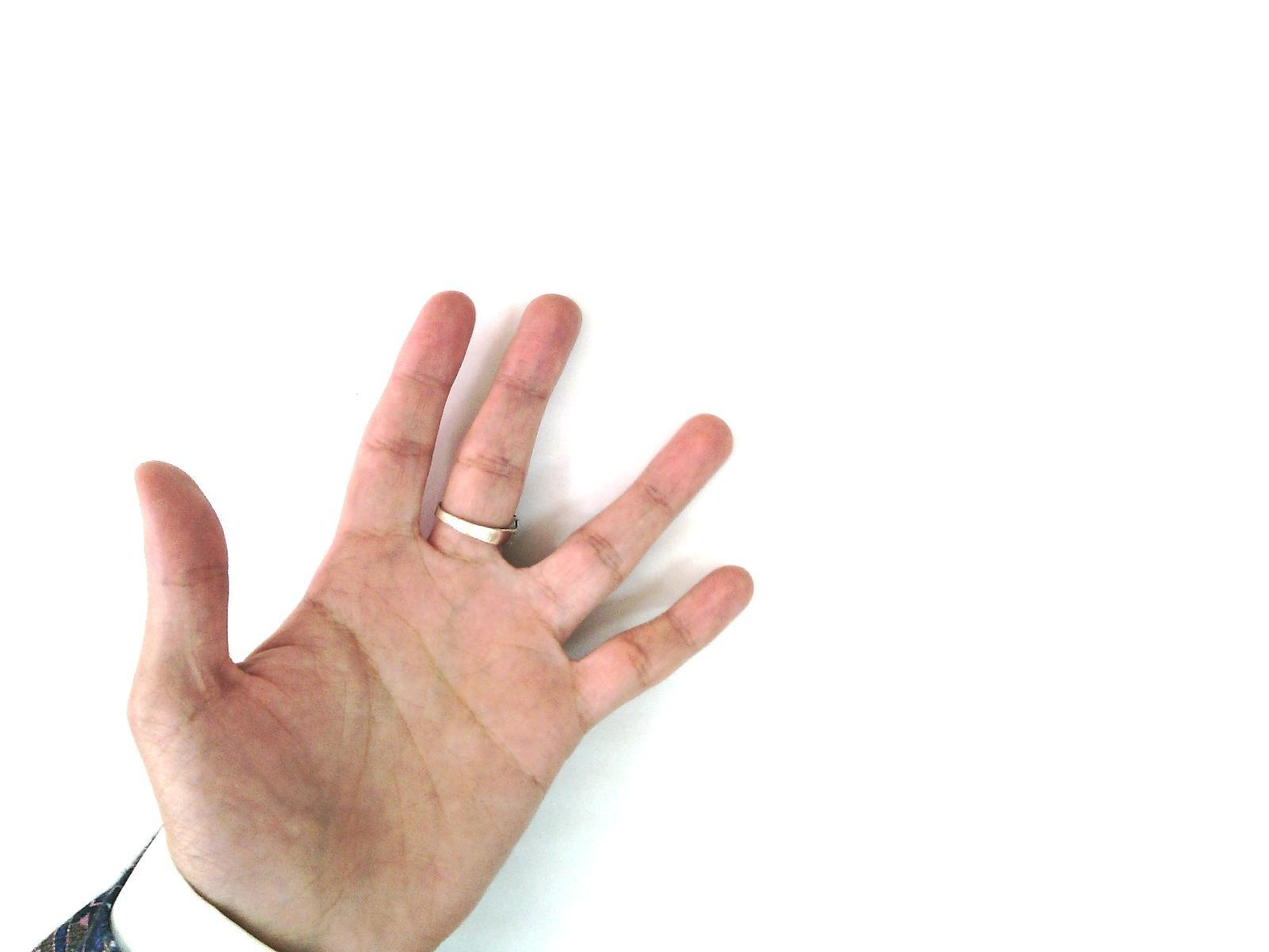open_palm: (125, 288, 757, 951)
